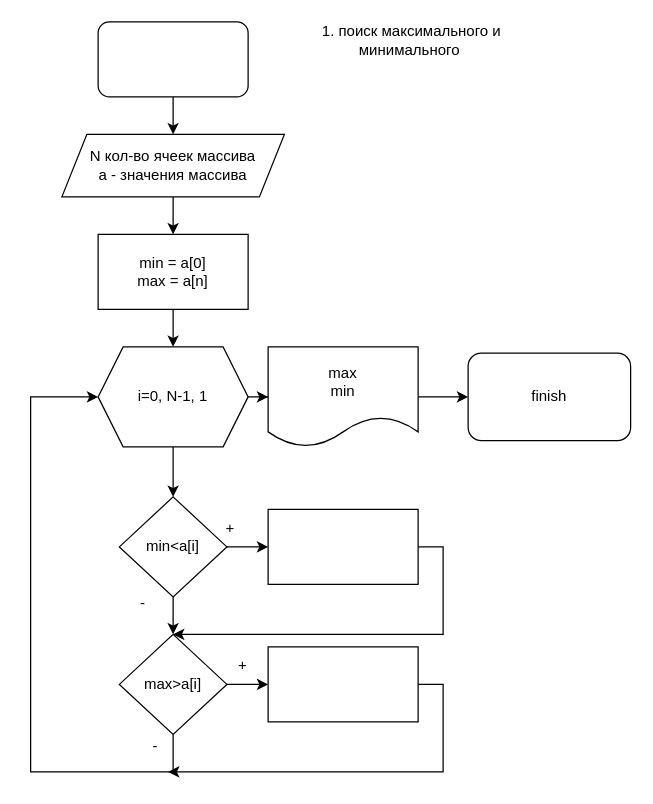
The diagram is 653 pixels wide and 804 high, and some of its shapes have lost their labels. The shapes that lost their labels are listed below. From the top down, each one's box as (x1, y1, x2, y2) in pixels, then its label:
(97, 21, 248, 97): start
(267, 508, 418, 584): min=a[i]
(267, 646, 418, 722): max=a[i]
